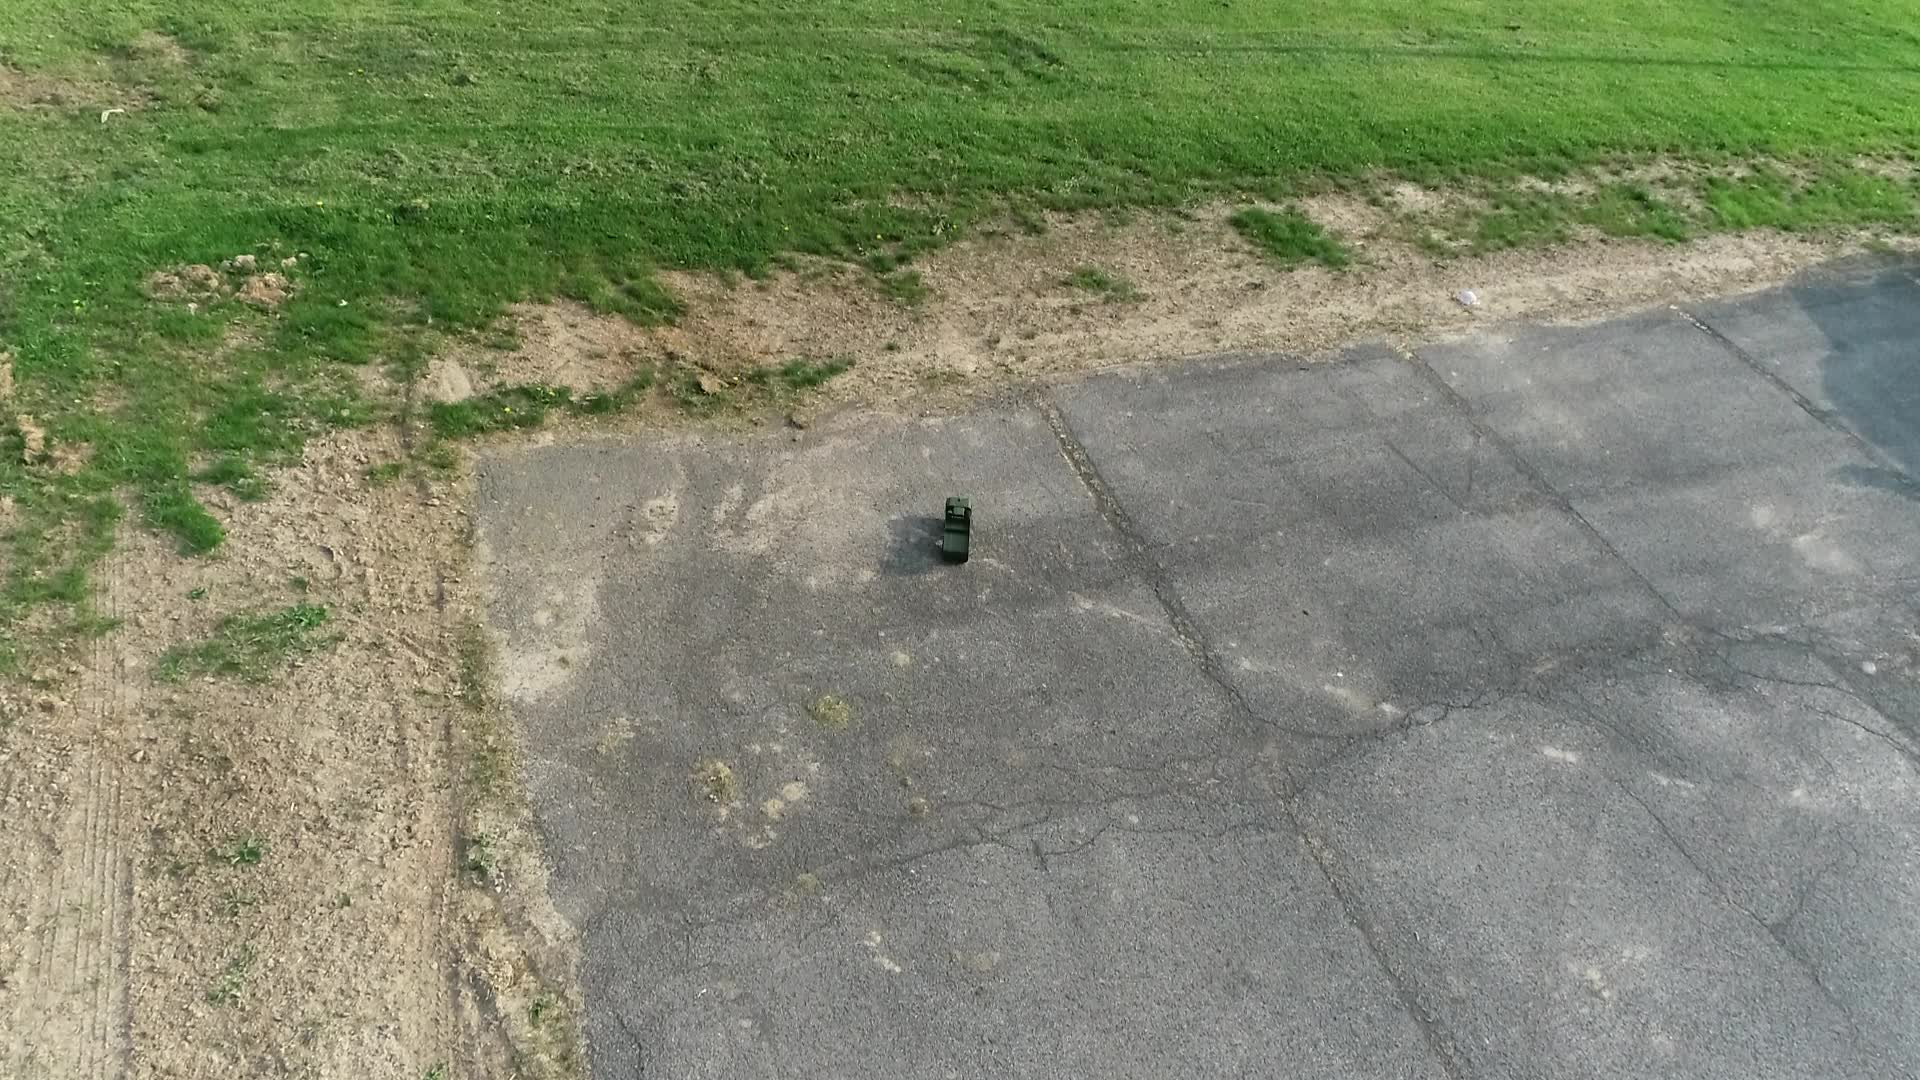transporter9: (938, 495, 976, 566)
